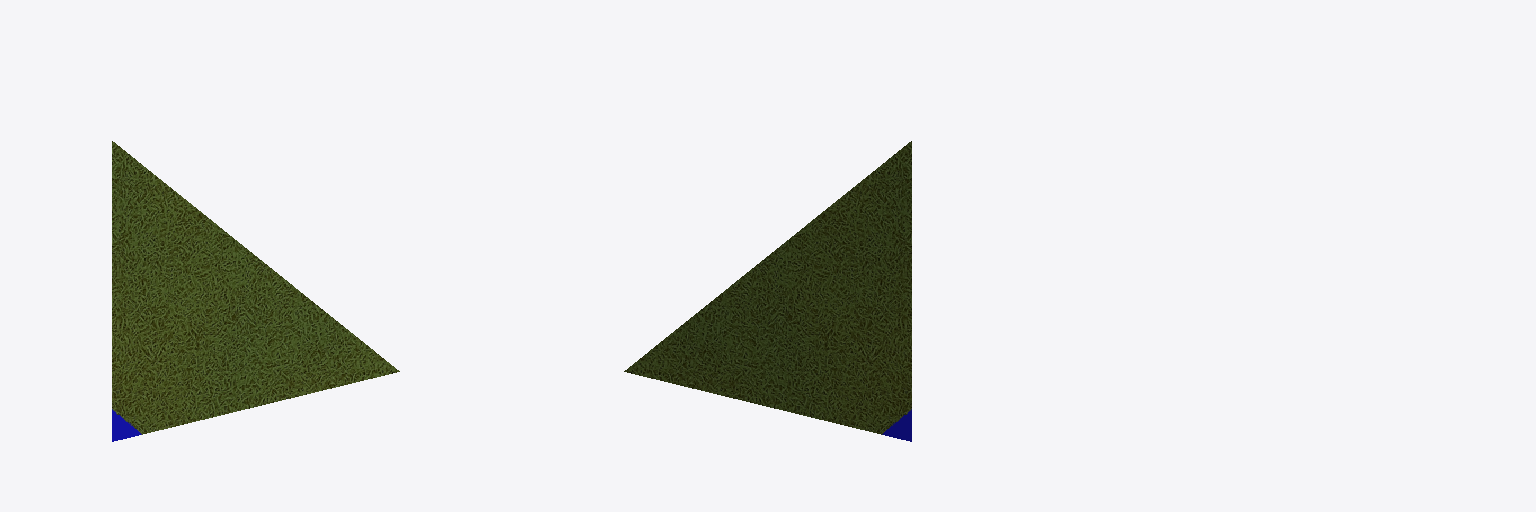
3 renders of one model, left to right at view 1: azimuth 30°, elevation 25°; view 2: azimuth 150°, elevation 25°; view 3: azimuth 270°, elevation 25°, orthographic.
Visible parts, largest first — view 1: RiverBase_Plane.001; view 2: RiverBase_Plane.001; view 3: none.
Part boxes in pixels (bbox=[...]): RiverBase_Plane.001: bbox=[112, 141, 399, 441]; RiverBase_Plane.001: bbox=[624, 141, 911, 441].
Bounding box in the file's own units: 1 × 1 × 0.
1 materials, 1 textured.